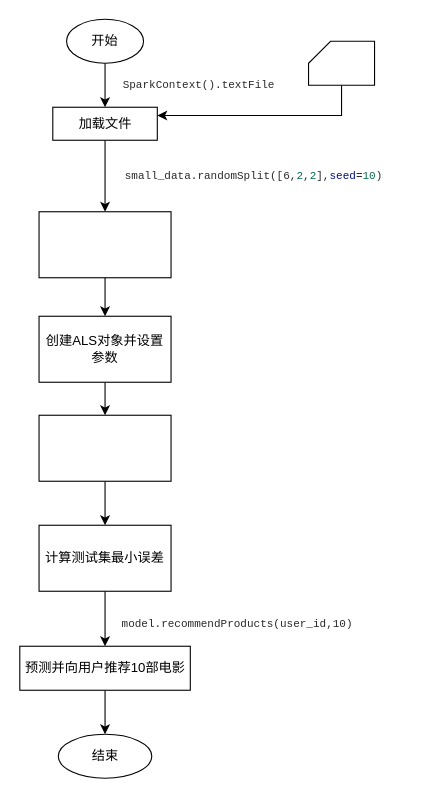
Image size: 426x798. Some labels were removed from this diagram. Each missing label, with the box of its shape:
ratings.csv: (307, 40, 375, 85)
划分训练集，验证集以及测试集: (38, 211, 171, 278)
训练模型并确认最佳秩: (38, 414, 171, 481)
